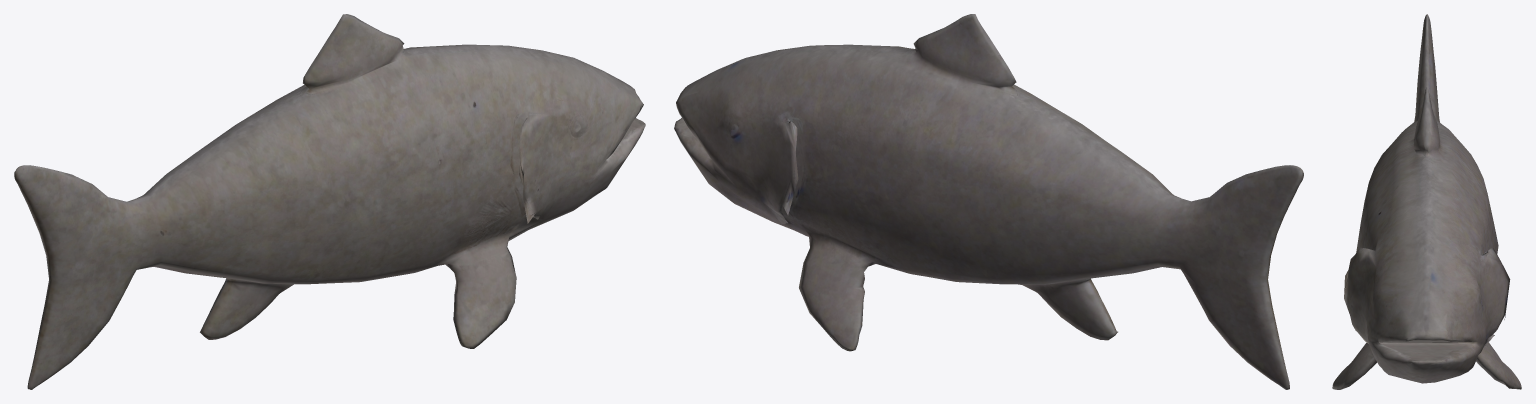
Rendered from fish-cooked-base.glb.
3 renders of one model, left to right at view 1: azimuth 30°, elevation 25°; view 2: azimuth 150°, elevation 25°; view 3: azimuth 270°, elevation 25°, orthographic. The views are drawn at different scales.
Visible parts, largest first — view 1: file1; view 2: file1; view 3: file1.
Boxes of the visible parts, x1,y1,x2,y2 form: file1: [14, 14, 645, 389]; file1: [674, 14, 1303, 389]; file1: [1332, 14, 1521, 389].
Size of the model in its own units: 1.99 by 0.9586 by 0.6071.
Materials: 1 (1 with a texture image).
